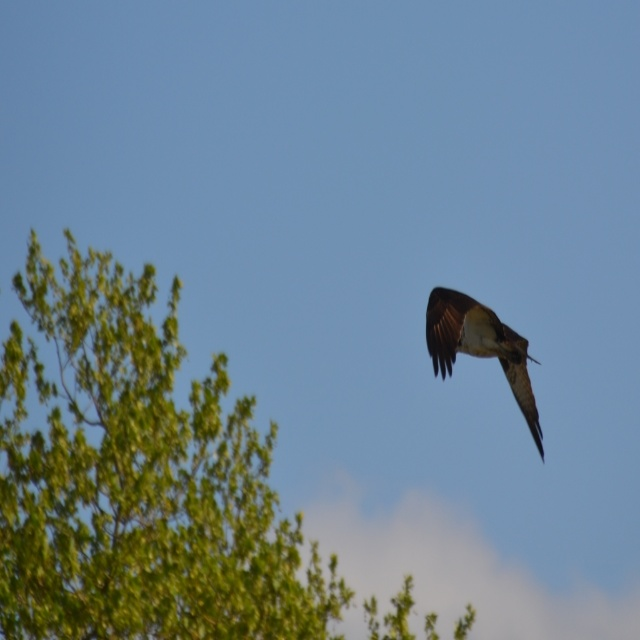Eagle: (427, 288, 547, 463)
